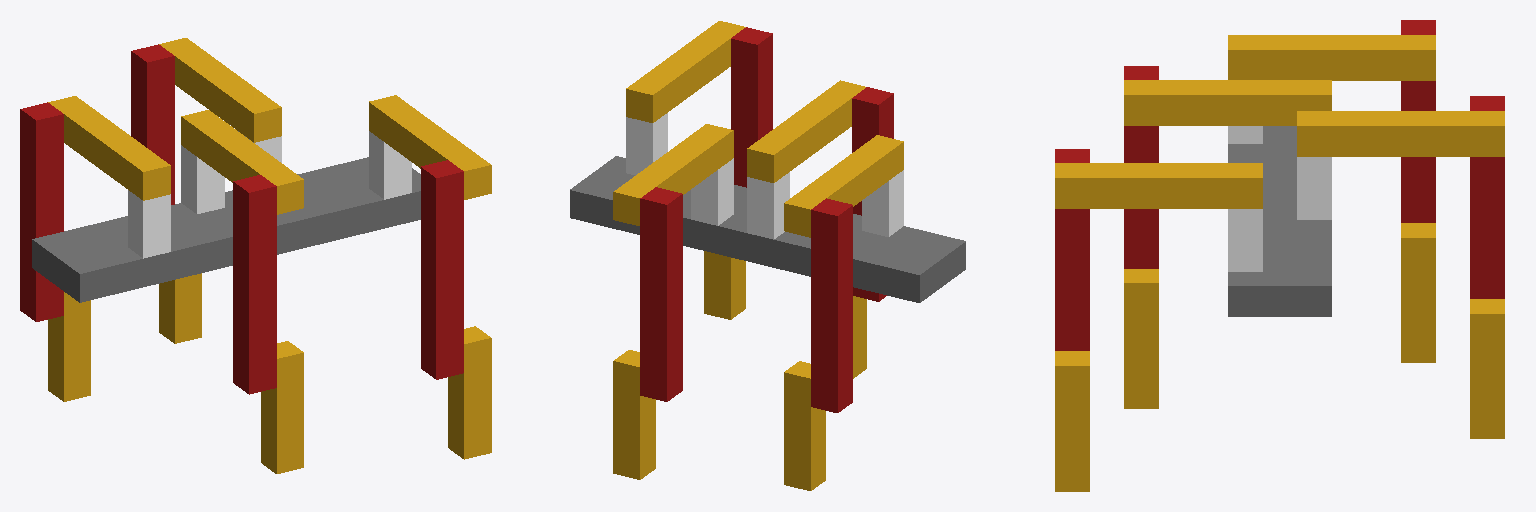
URDF robot description (v0):
<?xml version="1.0" encoding="utf-8"?>
<!-- =================================================================================== -->
<!-- |    This document was autogenerated by xacro from ../robots/v0variants/xacros/v0_4l_23.xacro | -->
<!-- |    EDITING THIS FILE BY HAND IS NOT RECOMMENDED                                 | -->
<!-- =================================================================================== -->
<robot name="v0">
  <material name="grey">
    <color rgba="0.5 0.5 0.5 1"/>
  </material>
  <material name="white">
    <color rgba="1 1 1 1"/>
  </material>
  <material name="yellow">
    <color rgba="0.91 0.7 0.14 1"/>
  </material>
  <material name="red">
    <color rgba="0.71 0.14 0.14 1"/>
  </material>
  <link name="body">
    <visual>
      <geometry>
        <box size="1.3 0.3 0.1"/>
      </geometry>
      <material name="grey"/>
      <origin rpy="0 0 0" xyz="0 0 0.7"/>
    </visual>
    <collision>
      <geometry>
        <box size="1.3 0.3 0.1"/>
      </geometry>
      <origin rpy="0 0 0" xyz="0 0 0.7"/>
    </collision>
    <inertial>
      <mass value="99.84"/>
      <inertia ixx="0.832" ixy="0.0" ixz="0.0" iyy="14.144" iyz="0.0" izz="14.8096"/>
    </inertial>
  </link>
  <link name="l1_segment_1">
    <visual>
      <geometry>
        <box size="0.1 0.1 0.2"/>
      </geometry>
      <material name="white"/>
      <origin rpy="0 0 0" xyz="0 0 0.1"/>
    </visual>
    <collision>
      <geometry>
        <box size="0.1 0.1 0.2"/>
      </geometry>
      <origin rpy="0 0 0" xyz="0 0 0.1"/>
    </collision>
    <inertial>
      <mass value="5.12"/>
      <inertia ixx="0.0213333333333" ixy="0.0" ixz="0.0" iyy="0.0213333333333" iyz="0.0" izz="0.00853333333333"/>
    </inertial>
  </link>
  <joint name="l1_base_to_joint_1" type="fixed">
    <parent link="body"/>
    <child link="l1_segment_1"/>
    <origin rpy="0 0 0" xyz="-0.3690245141628474 -0.1 0.75"/>
  </joint>
  <link name="l1_segment_2_HIP">
    <visual>
      <geometry>
        <box size="0.1 0.6 0.1"/>
      </geometry>
      <material name="yellow"/>
      <origin rpy="0 0 0" xyz="0 0.25 0"/>
    </visual>
    <collision>
      <geometry>
        <box size="0.1 0.6 0.1"/>
      </geometry>
      <origin rpy="0 0 0" xyz="0 0.25 0"/>
    </collision>
    <inertial>
      <mass value="15.36"/>
      <inertia ixx="0.4736" ixy="0.0" ixz="0.0" iyy="0.0256" iyz="0.0" izz="0.4736"/>
    </inertial>
  </link>
  <joint name="l1_joint_1_to_2" type="revolute">
    <parent link="l1_segment_1"/>
    <child link="l1_segment_2_HIP"/>
    <origin rpy="0 0 0" xyz="0 0 0.25"/>
    <axis xyz="0.0 0.0 1.0"/>
    <limit effort="2048" lower="-1.2" upper="1.2" velocity="20"/>
  </joint>
  <link name="l1_segment_3_THIGH">
    <visual>
      <geometry>
        <box size="0.1 0.1 0.7"/>
      </geometry>
      <material name="red"/>
      <origin rpy="0 0 0" xyz="0 0 -0.3"/>
    </visual>
    <collision>
      <geometry>
        <box size="0.1 0.1 0.7"/>
      </geometry>
      <origin rpy="0 0 0" xyz="0 0 -0.3"/>
    </collision>
    <inertial>
      <mass value="17.92"/>
      <inertia ixx="0.746666666667" ixy="0.0" ixz="0.0" iyy="0.746666666667" iyz="0.0" izz="0.0298666666667"/>
    </inertial>
  </link>
  <joint name="l1_joint_2_to_3" type="revolute">
    <parent link="l1_segment_2_HIP"/>
    <child link="l1_segment_3_THIGH"/>
    <origin rpy="0 0 0" xyz="-0.1 0.5 0"/>
    <axis xyz="1.0 0.0 0.0"/>
    <limit effort="2048" lower="-0.2" upper="0.75" velocity="20"/>
  </joint>
  <link name="l1_segment_4_FOOT">
    <visual>
      <geometry>
        <box size="0.1 0.1 0.4"/>
      </geometry>
      <material name="yellow"/>
      <origin rpy="0 0 0" xyz="0 0 -0.2"/>
    </visual>
    <collision>
      <geometry>
        <box size="0.1 0.1 0.4"/>
      </geometry>
      <origin rpy="0 0 0" xyz="0 0 -0.2"/>
    </collision>
    <inertial>
      <mass value="10.24"/>
      <inertia ixx="0.145066666667" ixy="0.0" ixz="0.0" iyy="0.145066666667" iyz="0.0" izz="0.0170666666667"/>
    </inertial>
  </link>
  <joint name="l1_joint_3_to_4_FOOT" type="revolute">
    <parent link="l1_segment_3_THIGH"/>
    <child link="l1_segment_4_FOOT"/>
    <origin rpy="0 0 0" xyz="0.1 0 -0.55"/>
    <axis xyz="1.0 0.0 0.0"/>
    <limit effort="2048" lower="-0.2" upper="0.5" velocity="20"/>
  </joint>
  <link name="r2_segment_1">
    <visual>
      <geometry>
        <box size="0.1 0.1 0.2"/>
      </geometry>
      <material name="white"/>
      <origin rpy="0 0 0" xyz="0 0 0.1"/>
    </visual>
    <collision>
      <geometry>
        <box size="0.1 0.1 0.2"/>
      </geometry>
      <origin rpy="0 0 0" xyz="0 0 0.1"/>
    </collision>
    <inertial>
      <mass value="5.12"/>
      <inertia ixx="0.0213333333333" ixy="0.0" ixz="0.0" iyy="0.0213333333333" iyz="0.0" izz="0.00853333333333"/>
    </inertial>
  </link>
  <joint name="r2_base_to_joint_1" type="fixed">
    <parent link="body"/>
    <child link="r2_segment_1"/>
    <origin rpy="0 0 0" xyz="-0.05885722193708334 0.1 0.75"/>
  </joint>
  <link name="r2_segment_2_HIP">
    <visual>
      <geometry>
        <box size="0.1 0.6 0.1"/>
      </geometry>
      <material name="yellow"/>
      <origin rpy="0 0 0" xyz="0 -0.25 0"/>
    </visual>
    <collision>
      <geometry>
        <box size="0.1 0.6 0.1"/>
      </geometry>
      <origin rpy="0 0 0" xyz="0 -0.25 0"/>
    </collision>
    <inertial>
      <mass value="15.36"/>
      <inertia ixx="0.4736" ixy="0.0" ixz="0.0" iyy="0.0256" iyz="0.0" izz="0.4736"/>
    </inertial>
  </link>
  <joint name="r2_joint_1_to_2" type="revolute">
    <parent link="r2_segment_1"/>
    <child link="r2_segment_2_HIP"/>
    <origin rpy="0 0 0" xyz="0 0 0.25"/>
    <axis xyz="0.0 0.0 1.0"/>
    <limit effort="2048" lower="-1.2" upper="1.2" velocity="20"/>
  </joint>
  <link name="r2_segment_3_THIGH">
    <visual>
      <geometry>
        <box size="0.1 0.1 0.7"/>
      </geometry>
      <material name="red"/>
      <origin rpy="0 0 0" xyz="0 0 -0.3"/>
    </visual>
    <collision>
      <geometry>
        <box size="0.1 0.1 0.7"/>
      </geometry>
      <origin rpy="0 0 0" xyz="0 0 -0.3"/>
    </collision>
    <inertial>
      <mass value="17.92"/>
      <inertia ixx="0.746666666667" ixy="0.0" ixz="0.0" iyy="0.746666666667" iyz="0.0" izz="0.0298666666667"/>
    </inertial>
  </link>
  <joint name="r2_joint_2_to_3" type="revolute">
    <parent link="r2_segment_2_HIP"/>
    <child link="r2_segment_3_THIGH"/>
    <origin rpy="0 0 0" xyz="-0.1 -0.5 0"/>
    <axis xyz="1.0 0.0 0.0"/>
    <limit effort="2048" lower="-0.75" upper="0.2" velocity="20"/>
  </joint>
  <link name="r2_segment_4_FOOT">
    <visual>
      <geometry>
        <box size="0.1 0.1 0.4"/>
      </geometry>
      <material name="yellow"/>
      <origin rpy="0 0 0" xyz="0 0 -0.2"/>
    </visual>
    <collision>
      <geometry>
        <box size="0.1 0.1 0.4"/>
      </geometry>
      <origin rpy="0 0 0" xyz="0 0 -0.2"/>
    </collision>
    <inertial>
      <mass value="10.24"/>
      <inertia ixx="0.145066666667" ixy="0.0" ixz="0.0" iyy="0.145066666667" iyz="0.0" izz="0.0170666666667"/>
    </inertial>
  </link>
  <joint name="r2_joint_3_to_4_FOOT" type="revolute">
    <parent link="r2_segment_3_THIGH"/>
    <child link="r2_segment_4_FOOT"/>
    <origin rpy="0 0 0" xyz="0.1 0 -0.55"/>
    <axis xyz="1.0 0.0 0.0"/>
    <limit effort="2048" lower="-0.5" upper="0.2" velocity="20"/>
  </joint>
  <link name="l3_segment_1">
    <visual>
      <geometry>
        <box size="0.1 0.1 0.2"/>
      </geometry>
      <material name="white"/>
      <origin rpy="0 0 0" xyz="0 0 0.1"/>
    </visual>
    <collision>
      <geometry>
        <box size="0.1 0.1 0.2"/>
      </geometry>
      <origin rpy="0 0 0" xyz="0 0 0.1"/>
    </collision>
    <inertial>
      <mass value="5.12"/>
      <inertia ixx="0.0213333333333" ixy="0.0" ixz="0.0" iyy="0.0213333333333" iyz="0.0" izz="0.00853333333333"/>
    </inertial>
  </link>
  <joint name="l3_base_to_joint_1" type="fixed">
    <parent link="body"/>
    <child link="l3_segment_1"/>
    <origin rpy="0 0 0" xyz="0.14904702551895746 0.1 0.75"/>
  </joint>
  <link name="l3_segment_2_HIP">
    <visual>
      <geometry>
        <box size="0.1 0.6 0.1"/>
      </geometry>
      <material name="yellow"/>
      <origin rpy="0 0 0" xyz="0 0.25 0"/>
    </visual>
    <collision>
      <geometry>
        <box size="0.1 0.6 0.1"/>
      </geometry>
      <origin rpy="0 0 0" xyz="0 0.25 0"/>
    </collision>
    <inertial>
      <mass value="15.36"/>
      <inertia ixx="0.4736" ixy="0.0" ixz="0.0" iyy="0.0256" iyz="0.0" izz="0.4736"/>
    </inertial>
  </link>
  <joint name="l3_joint_1_to_2" type="revolute">
    <parent link="l3_segment_1"/>
    <child link="l3_segment_2_HIP"/>
    <origin rpy="0 0 0" xyz="0 0 0.25"/>
    <axis xyz="0.0 0.0 1.0"/>
    <limit effort="2048" lower="-1.2" upper="1.2" velocity="20"/>
  </joint>
  <link name="l3_segment_3_THIGH">
    <visual>
      <geometry>
        <box size="0.1 0.1 0.7"/>
      </geometry>
      <material name="red"/>
      <origin rpy="0 0 0" xyz="0 0 -0.3"/>
    </visual>
    <collision>
      <geometry>
        <box size="0.1 0.1 0.7"/>
      </geometry>
      <origin rpy="0 0 0" xyz="0 0 -0.3"/>
    </collision>
    <inertial>
      <mass value="17.92"/>
      <inertia ixx="0.746666666667" ixy="0.0" ixz="0.0" iyy="0.746666666667" iyz="0.0" izz="0.0298666666667"/>
    </inertial>
  </link>
  <joint name="l3_joint_2_to_3" type="revolute">
    <parent link="l3_segment_2_HIP"/>
    <child link="l3_segment_3_THIGH"/>
    <origin rpy="0 0 0" xyz="-0.1 0.5 0"/>
    <axis xyz="1.0 0.0 0.0"/>
    <limit effort="2048" lower="-0.2" upper="0.75" velocity="20"/>
  </joint>
  <link name="l3_segment_4_FOOT">
    <visual>
      <geometry>
        <box size="0.1 0.1 0.4"/>
      </geometry>
      <material name="yellow"/>
      <origin rpy="0 0 0" xyz="0 0 -0.2"/>
    </visual>
    <collision>
      <geometry>
        <box size="0.1 0.1 0.4"/>
      </geometry>
      <origin rpy="0 0 0" xyz="0 0 -0.2"/>
    </collision>
    <inertial>
      <mass value="10.24"/>
      <inertia ixx="0.145066666667" ixy="0.0" ixz="0.0" iyy="0.145066666667" iyz="0.0" izz="0.0170666666667"/>
    </inertial>
  </link>
  <joint name="l3_joint_3_to_4_FOOT" type="revolute">
    <parent link="l3_segment_3_THIGH"/>
    <child link="l3_segment_4_FOOT"/>
    <origin rpy="0 0 0" xyz="0.1 0 -0.55"/>
    <axis xyz="1.0 0.0 0.0"/>
    <limit effort="2048" lower="-0.2" upper="0.5" velocity="20"/>
  </joint>
  <link name="r4_segment_1">
    <visual>
      <geometry>
        <box size="0.1 0.1 0.2"/>
      </geometry>
      <material name="white"/>
      <origin rpy="0 0 0" xyz="0 0 0.1"/>
    </visual>
    <collision>
      <geometry>
        <box size="0.1 0.1 0.2"/>
      </geometry>
      <origin rpy="0 0 0" xyz="0 0 0.1"/>
    </collision>
    <inertial>
      <mass value="5.12"/>
      <inertia ixx="0.0213333333333" ixy="0.0" ixz="0.0" iyy="0.0213333333333" iyz="0.0" izz="0.00853333333333"/>
    </inertial>
  </link>
  <joint name="r4_base_to_joint_1" type="fixed">
    <parent link="body"/>
    <child link="r4_segment_1"/>
    <origin rpy="0 0 0" xyz="0.5062385853549619 -0.1 0.75"/>
  </joint>
  <link name="r4_segment_2_HIP">
    <visual>
      <geometry>
        <box size="0.1 0.6 0.1"/>
      </geometry>
      <material name="yellow"/>
      <origin rpy="0 0 0" xyz="0 -0.25 0"/>
    </visual>
    <collision>
      <geometry>
        <box size="0.1 0.6 0.1"/>
      </geometry>
      <origin rpy="0 0 0" xyz="0 -0.25 0"/>
    </collision>
    <inertial>
      <mass value="15.36"/>
      <inertia ixx="0.4736" ixy="0.0" ixz="0.0" iyy="0.0256" iyz="0.0" izz="0.4736"/>
    </inertial>
  </link>
  <joint name="r4_joint_1_to_2" type="revolute">
    <parent link="r4_segment_1"/>
    <child link="r4_segment_2_HIP"/>
    <origin rpy="0 0 0" xyz="0 0 0.25"/>
    <axis xyz="0.0 0.0 1.0"/>
    <limit effort="2048" lower="-1.2" upper="1.2" velocity="20"/>
  </joint>
  <link name="r4_segment_3_THIGH">
    <visual>
      <geometry>
        <box size="0.1 0.1 0.7"/>
      </geometry>
      <material name="red"/>
      <origin rpy="0 0 0" xyz="0 0 -0.3"/>
    </visual>
    <collision>
      <geometry>
        <box size="0.1 0.1 0.7"/>
      </geometry>
      <origin rpy="0 0 0" xyz="0 0 -0.3"/>
    </collision>
    <inertial>
      <mass value="17.92"/>
      <inertia ixx="0.746666666667" ixy="0.0" ixz="0.0" iyy="0.746666666667" iyz="0.0" izz="0.0298666666667"/>
    </inertial>
  </link>
  <joint name="r4_joint_2_to_3" type="revolute">
    <parent link="r4_segment_2_HIP"/>
    <child link="r4_segment_3_THIGH"/>
    <origin rpy="0 0 0" xyz="-0.1 -0.5 0"/>
    <axis xyz="1.0 0.0 0.0"/>
    <limit effort="2048" lower="-0.75" upper="0.2" velocity="20"/>
  </joint>
  <link name="r4_segment_4_FOOT">
    <visual>
      <geometry>
        <box size="0.1 0.1 0.4"/>
      </geometry>
      <material name="yellow"/>
      <origin rpy="0 0 0" xyz="0 0 -0.2"/>
    </visual>
    <collision>
      <geometry>
        <box size="0.1 0.1 0.4"/>
      </geometry>
      <origin rpy="0 0 0" xyz="0 0 -0.2"/>
    </collision>
    <inertial>
      <mass value="10.24"/>
      <inertia ixx="0.145066666667" ixy="0.0" ixz="0.0" iyy="0.145066666667" iyz="0.0" izz="0.0170666666667"/>
    </inertial>
  </link>
  <joint name="r4_joint_3_to_4_FOOT" type="revolute">
    <parent link="r4_segment_3_THIGH"/>
    <child link="r4_segment_4_FOOT"/>
    <origin rpy="0 0 0" xyz="0.1 0 -0.55"/>
    <axis xyz="1.0 0.0 0.0"/>
    <limit effort="2048" lower="-0.5" upper="0.2" velocity="20"/>
  </joint>
</robot>

--- Render facts (derived) ---
3 views of the same robot in one strip: view 1: azimuth 30°, elevation 25°; view 2: azimuth 150°, elevation 25°; view 3: azimuth 270°, elevation 25° (orthographic).
Model v0 with 17 links and 16 joints (12 revolute, 4 fixed), rooted at body, posed all joints at 0.
Links seen in each view (by area): view 1: body, r2_segment_3_THIGH, r4_segment_3_THIGH, l1_segment_3_THIGH, l1_segment_2_HIP, l3_segment_2_HIP, r4_segment_2_HIP, r2_segment_2_HIP, r4_segment_4_FOOT, l3_segment_3_THIGH, r2_segment_4_FOOT, l1_segment_4_FOOT (+4 smaller); view 2: body, l3_segment_3_THIGH, l1_segment_3_THIGH, r2_segment_2_HIP, r4_segment_2_HIP, r4_segment_3_THIGH, l3_segment_2_HIP, l1_segment_2_HIP, l3_segment_4_FOOT, l1_segment_4_FOOT, r4_segment_4_FOOT, r2_segment_3_THIGH (+5 smaller); view 3: body, l3_segment_2_HIP, r4_segment_2_HIP, l1_segment_2_HIP, r2_segment_2_HIP, l3_segment_3_THIGH, r4_segment_3_THIGH, r4_segment_4_FOOT, l1_segment_4_FOOT, r2_segment_4_FOOT, l3_segment_4_FOOT, l1_segment_3_THIGH (+4 smaller).
Boxes of the visible links, x1,y1,x2,y2 form: body: (32, 157, 420, 302); r2_segment_3_THIGH: (233, 175, 276, 394); r4_segment_3_THIGH: (421, 160, 463, 379); l1_segment_3_THIGH: (20, 102, 63, 321); l1_segment_2_HIP: (48, 96, 170, 200); l3_segment_2_HIP: (159, 38, 281, 142); r4_segment_2_HIP: (369, 95, 491, 199); r2_segment_2_HIP: (181, 110, 303, 214); r4_segment_4_FOOT: (448, 326, 491, 459); l3_segment_3_THIGH: (131, 44, 174, 204); r2_segment_4_FOOT: (261, 341, 303, 473); l1_segment_4_FOOT: (48, 292, 90, 401); body: (570, 156, 965, 302); l3_segment_3_THIGH: (640, 187, 682, 401); l1_segment_3_THIGH: (811, 198, 852, 412); r2_segment_2_HIP: (747, 80, 865, 182); r4_segment_2_HIP: (626, 21, 745, 122); r4_segment_3_THIGH: (731, 27, 772, 187); l3_segment_2_HIP: (613, 124, 733, 225); l1_segment_2_HIP: (784, 135, 903, 237); l3_segment_4_FOOT: (613, 350, 655, 479); l1_segment_4_FOOT: (784, 361, 825, 490); r4_segment_4_FOOT: (704, 251, 745, 319); r2_segment_3_THIGH: (852, 87, 893, 301); body: (1228, 126, 1331, 316); l3_segment_2_HIP: (1297, 111, 1504, 156); r4_segment_2_HIP: (1055, 163, 1262, 208); l1_segment_2_HIP: (1228, 35, 1435, 80); r2_segment_2_HIP: (1124, 80, 1331, 125); l3_segment_3_THIGH: (1470, 96, 1504, 298); r4_segment_3_THIGH: (1055, 149, 1089, 350); r4_segment_4_FOOT: (1055, 351, 1089, 491); l1_segment_4_FOOT: (1401, 223, 1435, 362); r2_segment_4_FOOT: (1124, 269, 1158, 408); l3_segment_4_FOOT: (1470, 299, 1504, 438); l1_segment_3_THIGH: (1401, 20, 1435, 222).
Bounding box of the posed robot: 1.3 × 1.3 × 1 m (x, y, z).
Geometry: primitives only (box / cylinder / sphere), no mesh files.